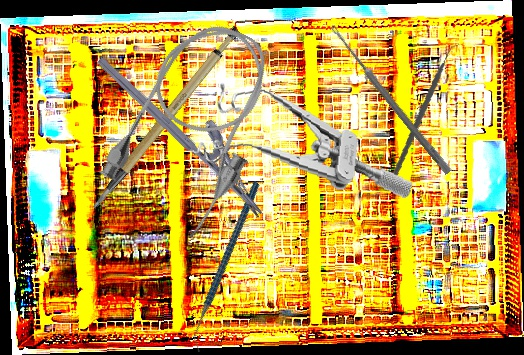Cannula: (92, 4, 300, 245)
Chopper: (145, 180, 309, 353), (373, 43, 481, 184)
Needle Holder: (96, 34, 285, 219)
Scalpel Handle: (66, 23, 262, 210)
Speculum: (189, 80, 421, 199)
Surgical Spoon: (328, 24, 453, 175)
